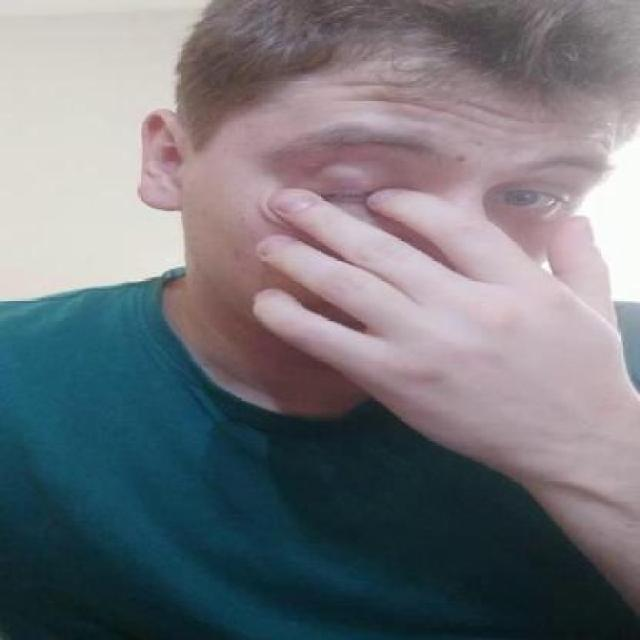awake: (484, 184, 568, 213)
drowsy: (318, 177, 369, 211)
